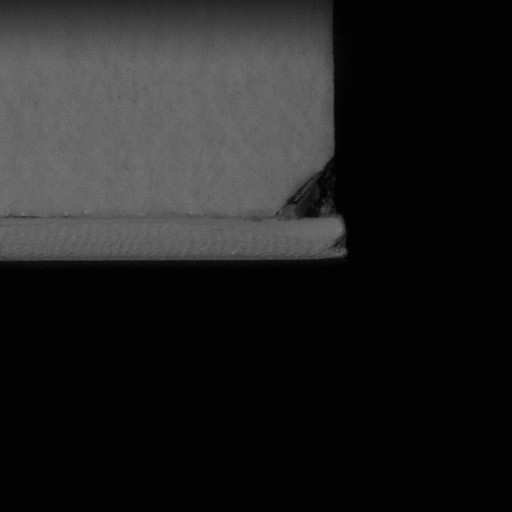bengque: (263, 160, 345, 222)
